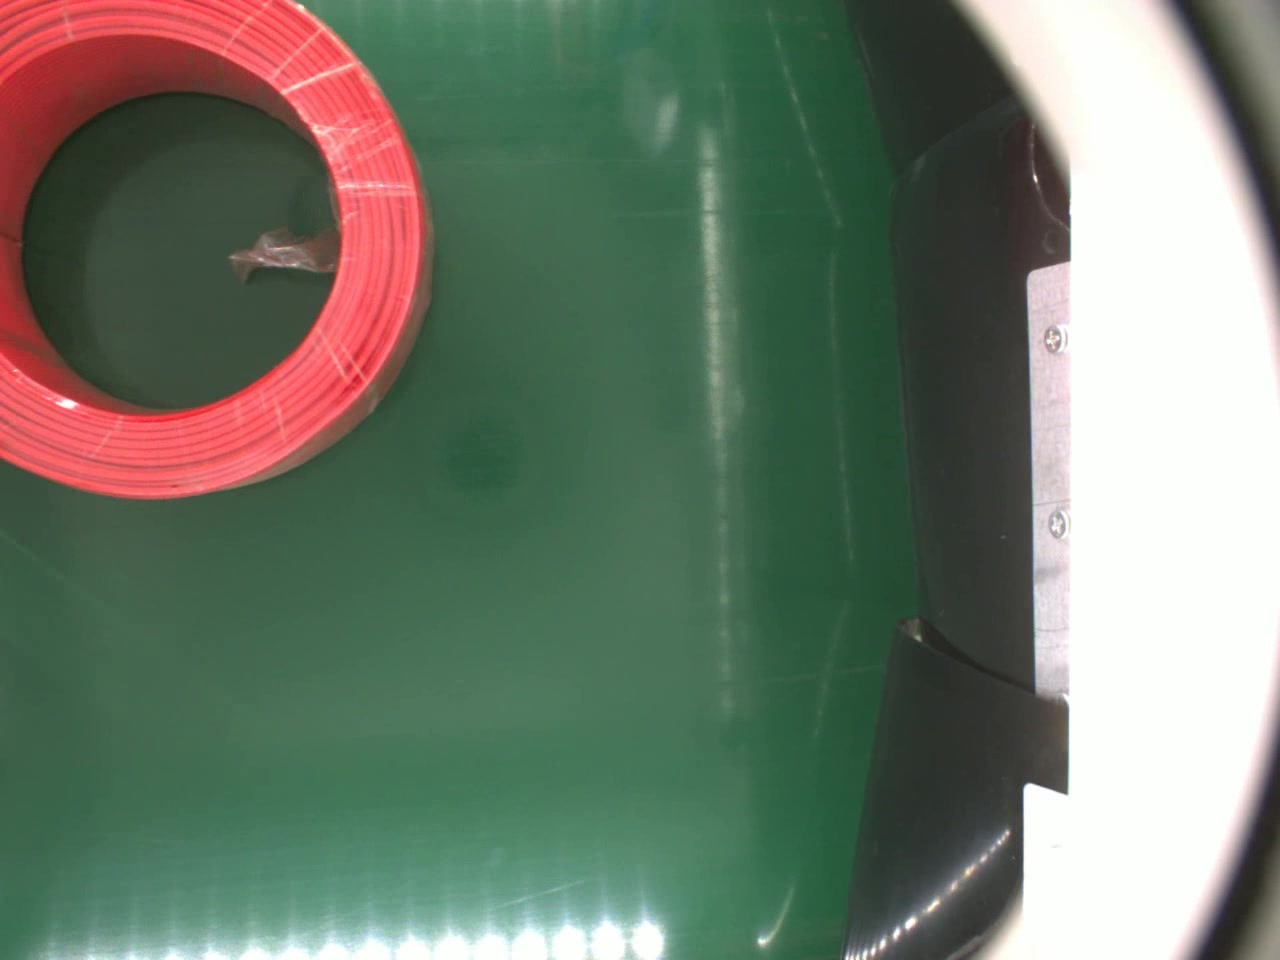red: (0, 0, 440, 501)
